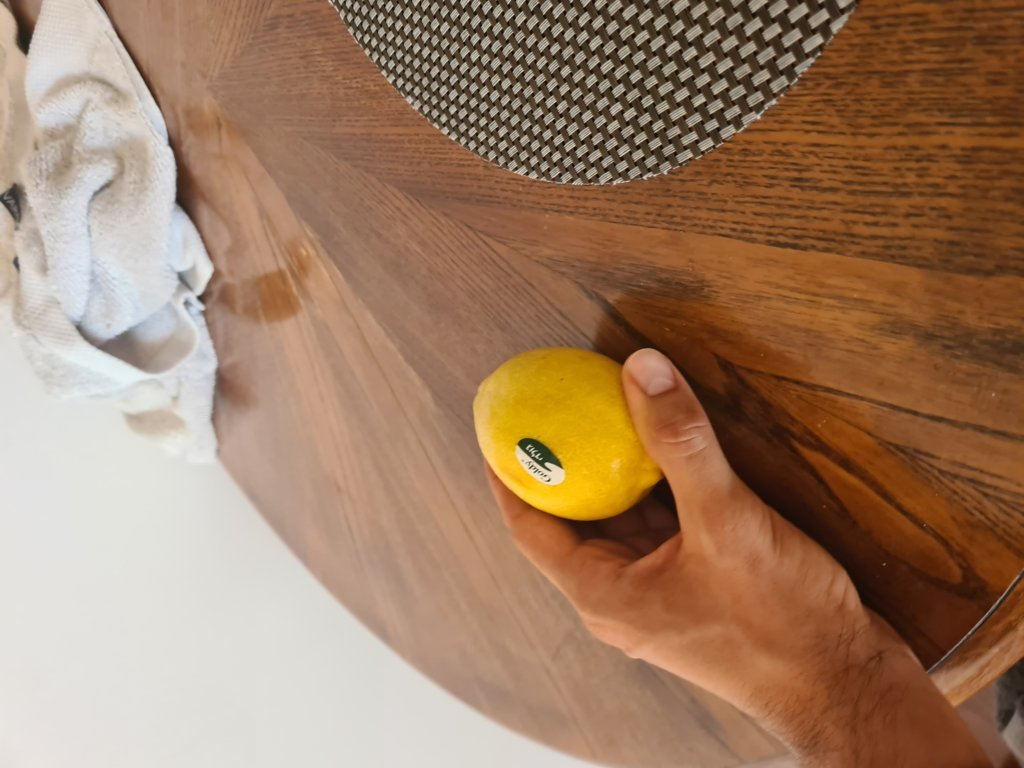lemon: (470, 346, 672, 518)
